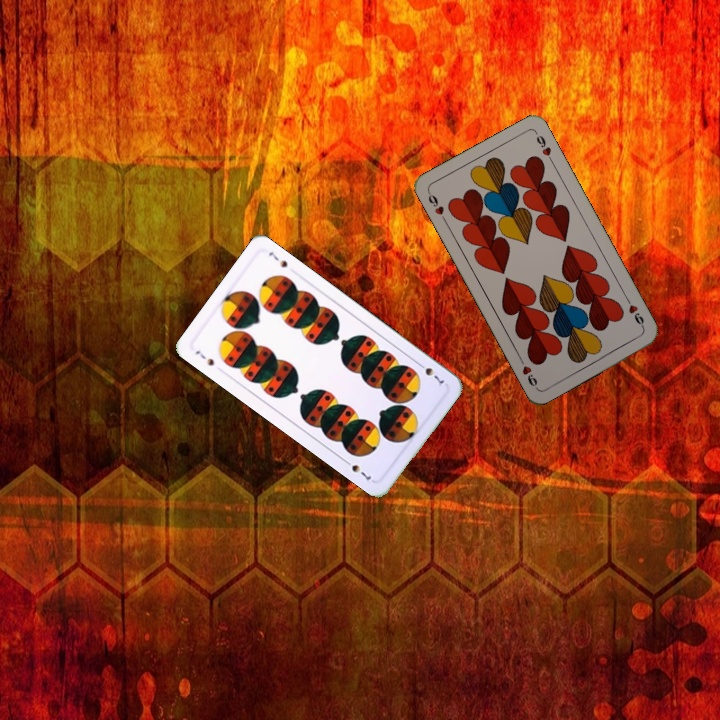H9: (424, 187, 449, 225), (622, 294, 647, 331)
S7: (413, 358, 446, 389), (191, 346, 217, 368)
